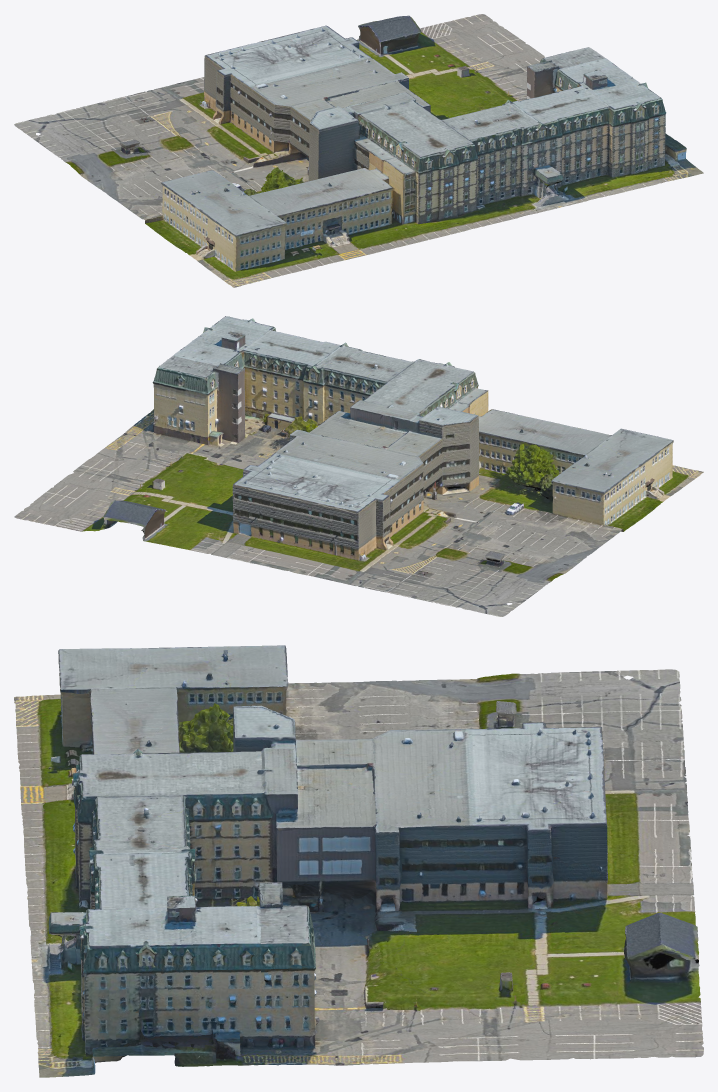
Rendered from campus.v1.glb.
The picture shows the model from 3 angles, top to bottom: view 1: azimuth 30°, elevation 25°; view 2: azimuth 150°, elevation 25°; view 3: azimuth 270°, elevation 25°; orthographic projection. The views are drawn at different scales.
Visible parts, largest first — view 1: campus; view 2: campus; view 3: campus.
Boxes of the visible parts, x1,y1,x2,y2 form: campus: [14, 14, 703, 287]; campus: [14, 316, 703, 616]; campus: [14, 645, 703, 1077].
Size of the model in its own units: 141 by 22.24 by 109.
2 materials, 2 textured.
